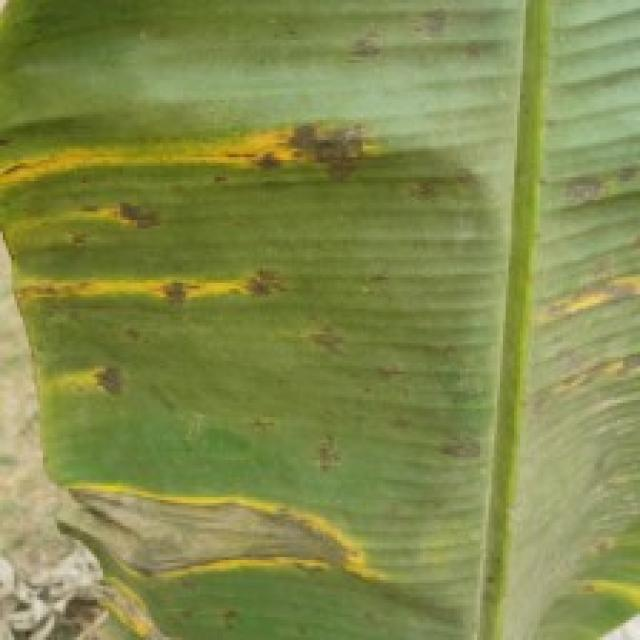Downey_mildrew: (3, 99, 481, 640), (531, 164, 640, 481), (265, 3, 535, 102), (559, 534, 640, 640)
